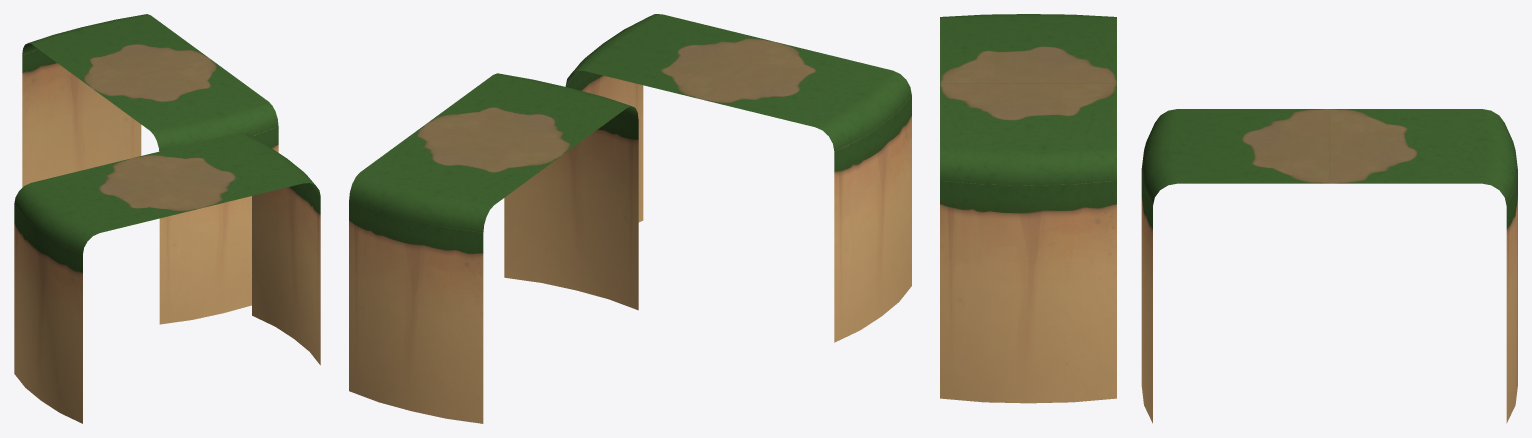
File: TM_Side_Rounded.fbx
3 views of the same model, side by side, from view 1: azimuth 30°, elevation 25°; view 2: azimuth 150°, elevation 25°; view 3: azimuth 270°, elevation 25° (orthographic). The views are drawn at different scales.
Parts seen in each view (by area): view 1: TM_Grass_BasicCube01.306, TM_Grass_BasicCube01.304, TM_Grass_BasicCube01.305, TM_Grass_BasicCube01.075; view 2: TM_Grass_BasicCube01.305, TM_Grass_BasicCube01.304, TM_Grass_BasicCube01.306, TM_Grass_BasicCube01.075; view 3: TM_Grass_BasicCube01.075, TM_Grass_BasicCube01.305, TM_Grass_BasicCube01.304, TM_Grass_BasicCube01.306.
Boxes of the visible parts, box(x1,y1,x2,y2) form: TM_Grass_BasicCube01.306: box(14, 158, 201, 423); TM_Grass_BasicCube01.304: box(91, 58, 278, 324); TM_Grass_BasicCube01.305: box(22, 14, 209, 187); TM_Grass_BasicCube01.075: box(133, 132, 320, 365); TM_Grass_BasicCube01.305: box(349, 123, 560, 423); TM_Grass_BasicCube01.304: box(427, 73, 638, 310); TM_Grass_BasicCube01.306: box(700, 42, 911, 342); TM_Grass_BasicCube01.075: box(565, 14, 776, 222); TM_Grass_BasicCube01.075: box(940, 83, 1116, 403); TM_Grass_BasicCube01.305: box(1329, 109, 1517, 423); TM_Grass_BasicCube01.304: box(1141, 109, 1329, 423); TM_Grass_BasicCube01.306: box(940, 14, 1116, 83).
Size of the model in its own units: 9.61 by 6 by 13.07.
